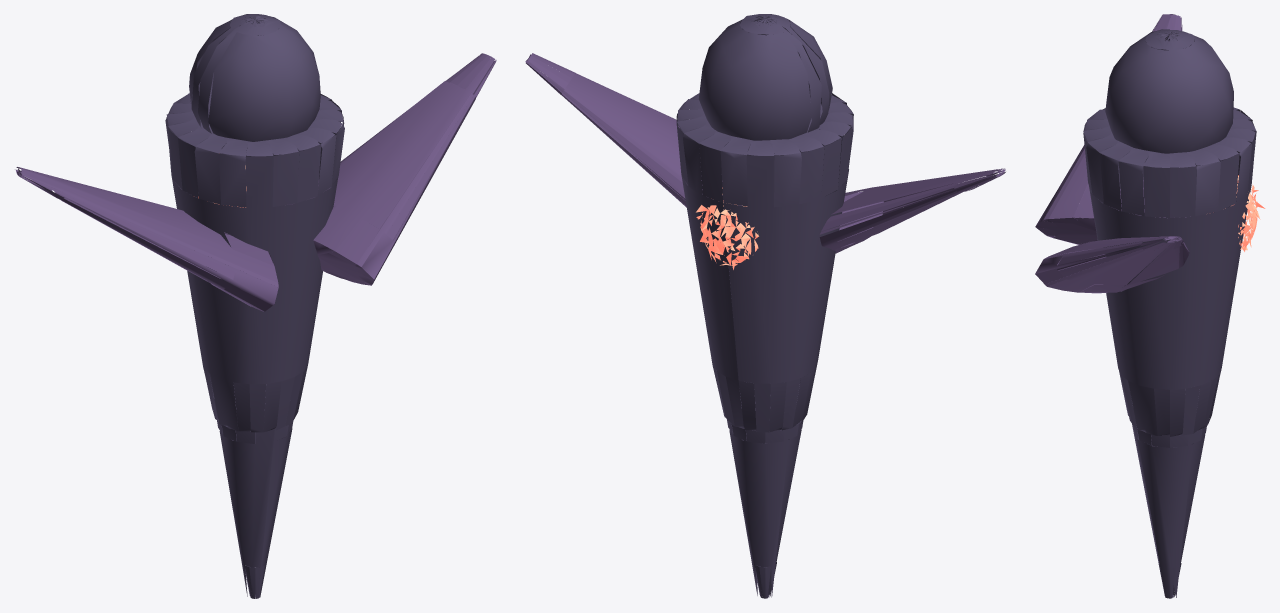
Rendered from shadow_wraith.glb.
3 views of the same model, side by side, from view 1: azimuth 30°, elevation 25°; view 2: azimuth 150°, elevation 25°; view 3: azimuth 270°, elevation 25° (orthographic). The views are drawn at different scales.
Parts seen in each view (by area): view 1: wraith_body, wing_0, wraith_hood; view 2: wraith_body, wing_0, wraith_hood, crimson_core; view 3: wraith_body, wing_0, wraith_hood, crimson_core.
Boxes of the visible parts, x1,y1,x2,y2 form: wraith_body: (165, 93, 344, 432); wing_0: (15, 53, 496, 598); wraith_hood: (189, 14, 320, 163); wraith_body: (676, 93, 853, 432); wing_0: (525, 53, 1005, 598); wraith_hood: (698, 14, 832, 155); crimson_core: (696, 187, 758, 269); wraith_body: (1083, 107, 1256, 436); wing_0: (1035, 14, 1206, 598); wraith_hood: (1105, 29, 1233, 167); crimson_core: (1225, 175, 1265, 251).
Bounding box in the file's own units: 1.96 × 2.28 × 0.8471.
